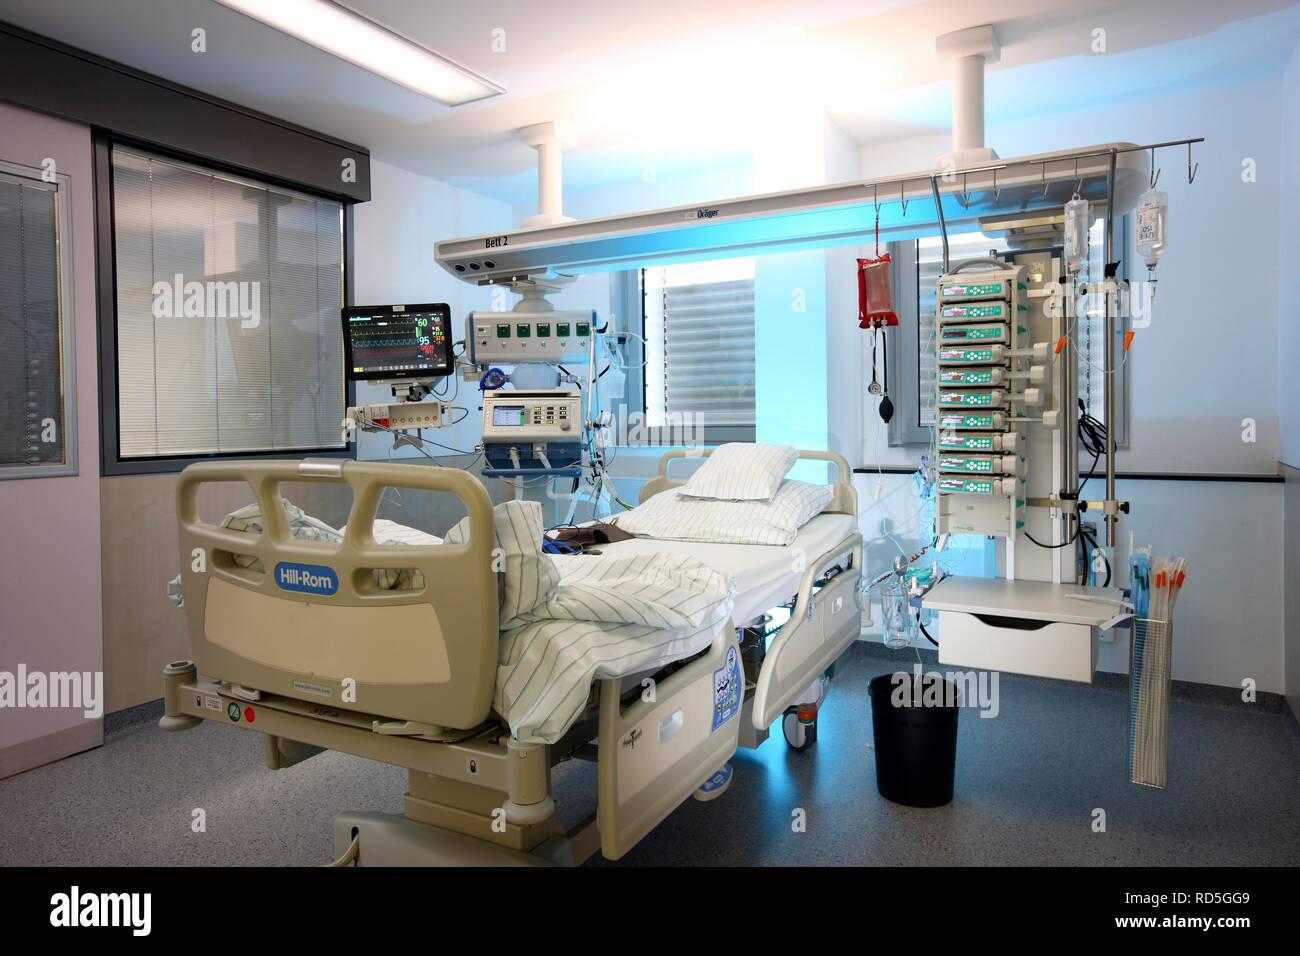bedrail: (597, 616, 745, 861), (752, 532, 863, 730)
bedside_monitor: (340, 302, 454, 381)
breathing_tube: (508, 447, 611, 527)
foot_board: (175, 458, 499, 730)
hospital_bed: (159, 442, 873, 868)
iv_pole: (1031, 138, 1204, 547), (864, 158, 1013, 271)
syringe_pump: (934, 278, 1012, 303), (935, 300, 1007, 323), (930, 324, 1008, 345), (937, 409, 1003, 431), (938, 429, 1003, 451), (938, 453, 1002, 474), (936, 390, 1002, 409), (936, 346, 1003, 364), (938, 476, 1002, 495), (937, 369, 1003, 387)
ventilator: (483, 390, 586, 471)
waste_bin: (867, 673, 964, 809)
